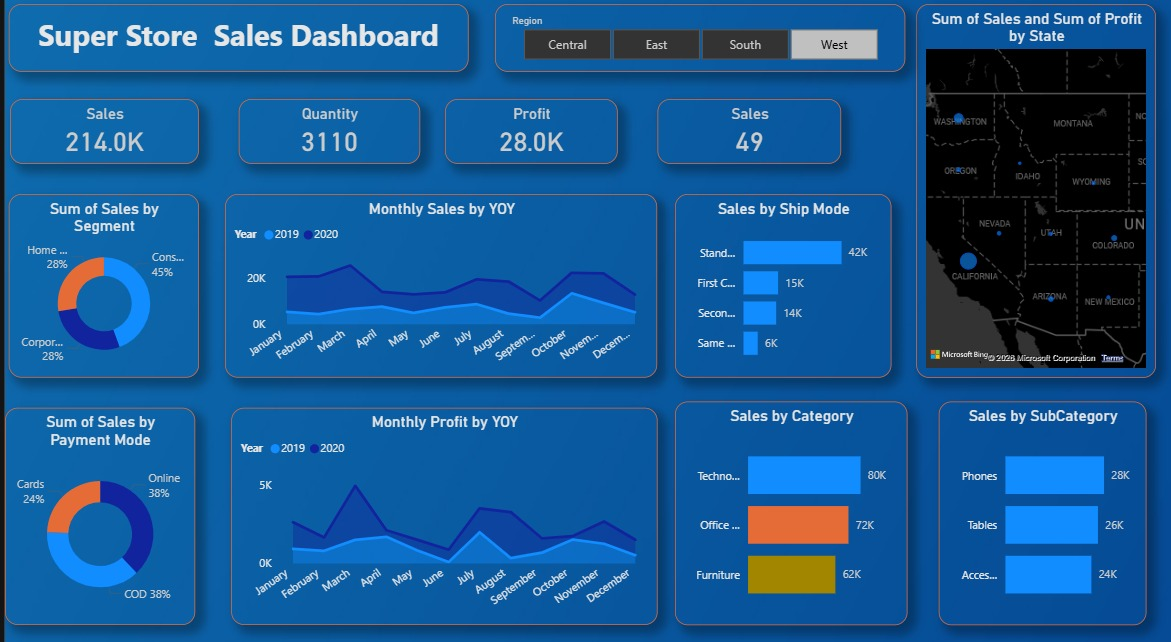

This screenshot's page, from the dashboard's own definition file:
{"tool":"powerbi","page":{"name":"Page 1","canvas":[1280,720],"ordinal":0},"visuals":[{"type":"clusteredBarChart","title":" Sales by Category","fields":{"Category":["SuperStore_Sales_Dataset.Category"],"Y":["Sum(SuperStore_Sales_Dataset.Sales)"]},"box":[735.5,447.3,255.2,245.6],"z":0},{"type":"clusteredBarChart","title":" Sales by SubCategory","fields":{"Category":["SuperStore_Sales_Dataset.Sub-Category"],"Y":["Sum(SuperStore_Sales_Dataset.Sales)"]},"box":[1025,447.3,227.8,245.6],"z":1000},{"type":"clusteredBarChart","title":" Sales by Ship Mode","fields":{"Category":["SuperStore_Sales_Dataset.Ship Mode"],"Y":["Sum(SuperStore_Sales_Dataset.Sales)"]},"box":[735.5,219.6,237.4,201.7],"z":2000},{"type":"stackedAreaChart","title":" Monthly Sales  by YOY","fields":{"Y":["Sum(SuperStore_Sales_Dataset.Sales)"],"Category":["SuperStore_Sales_Dataset.Order Date.Variation.Date Hierarchy.Month","SuperStore_Sales_Dataset.Order Date.Variation.Date Hierarchy.Day"],"Series":["SuperStore_Sales_Dataset.Order Date.Variation.Date Hierarchy.Year"]},"box":[241.5,219.6,474.8,201.7],"z":3000},{"type":"stackedAreaChart","title":" Monthly Profit  by YOY","fields":{"Category":["SuperStore_Sales_Dataset.Order Date.Variation.Date Hierarchy.Month","SuperStore_Sales_Dataset.Order Date.Variation.Date Hierarchy.Day"],"Series":["SuperStore_Sales_Dataset.Order Date.Variation.Date Hierarchy.Year"],"Y":["Sum(SuperStore_Sales_Dataset.Profit)"]},"box":[248.4,454.2,467.9,238.8],"z":4000},{"type":"map","fields":{"Category":["SuperStore_Sales_Dataset.State"],"Size":["Sum(SuperStore_Sales_Dataset.Sales)"]},"box":[1000.3,11,263.5,410.3],"z":5000},{"type":"donutChart","fields":{"Category":["SuperStore_Sales_Dataset.Segment"],"Y":["Sum(SuperStore_Sales_Dataset.Sales)"]},"box":[4.1,219.6,208.6,201.7],"z":6000},{"type":"donutChart","fields":{"Category":["SuperStore_Sales_Dataset.Payment Mode"],"Y":["Sum(SuperStore_Sales_Dataset.Sales)"]},"box":[0,454.2,208.6,238.8],"z":7000},{"type":"slicer","fields":{"Values":["SuperStore_Sales_Dataset.Region"]},"box":[537.9,11,450.1,74.1],"z":8000},{"type":"textbox","box":[4.1,11,505,74.1],"z":9000},{"type":"card","title":"Sales","fields":{"Values":["Avg(SuperStore_Sales_Dataset.AverageDelivery)"]},"box":[716.3,115.3,201.7,71.4],"z":10000},{"type":"card","title":"Profit","fields":{"Values":["Sum(SuperStore_Sales_Dataset.Profit)"]},"box":[483,115.3,189.4,71.4],"z":11000},{"type":"card","title":"Quantity ","fields":{"Values":["Sum(SuperStore_Sales_Dataset.Quantity)"]},"box":[256.6,115.3,199,71.4],"z":12000},{"type":"card","title":"Sales","fields":{"Values":["Sum(SuperStore_Sales_Dataset.Sales)"]},"box":[5.5,115.3,207.2,71.4],"z":13000}]}

Visuals, with their boxes in screenshot pixels (x1, y1, x2, y2), scaled from the page's 1280x720 canvas onto the 1171x642 screenshot:
" Sales by Category" clusteredBarChart: (673, 399, 906, 618)
" Sales by SubCategory" clusteredBarChart: (938, 399, 1146, 618)
" Sales by Ship Mode" clusteredBarChart: (673, 196, 890, 376)
" Monthly Sales  by YOY" stackedAreaChart: (221, 196, 655, 376)
" Monthly Profit  by YOY" stackedAreaChart: (227, 405, 655, 618)
map - SuperStore_Sales_Dataset.State x Sum(SuperStore_Sales_Dataset.Sales): (915, 10, 1156, 376)
donutChart - SuperStore_Sales_Dataset.Segment x Sum(SuperStore_Sales_Dataset.Sales): (4, 196, 195, 376)
donutChart - SuperStore_Sales_Dataset.Payment Mode x Sum(SuperStore_Sales_Dataset.Sales): (0, 405, 191, 618)
slicer - SuperStore_Sales_Dataset.Region: (492, 10, 904, 76)
textbox: (4, 10, 466, 76)
"Sales" card: (655, 103, 840, 166)
"Profit" card: (442, 103, 615, 166)
"Quantity " card: (235, 103, 417, 166)
"Sales" card: (5, 103, 195, 166)
